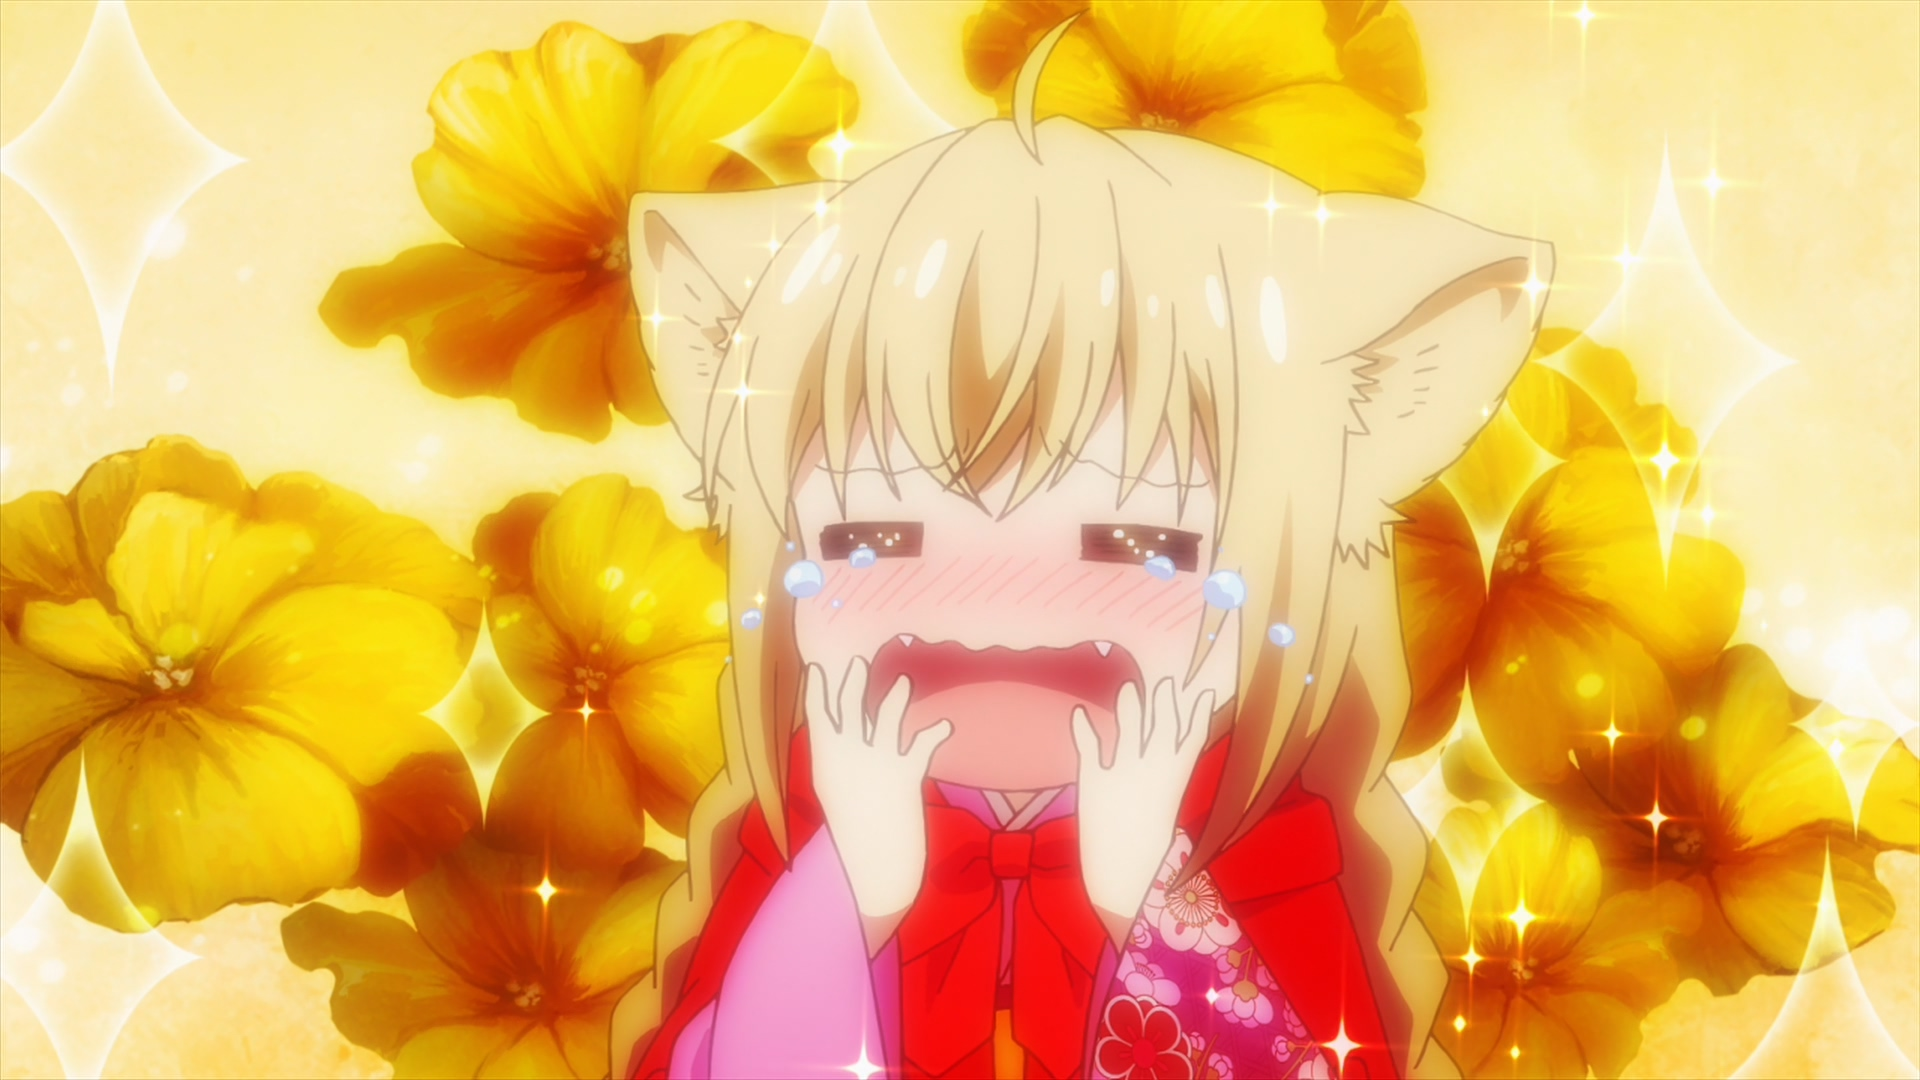柚: (626, 12, 1556, 1080)
